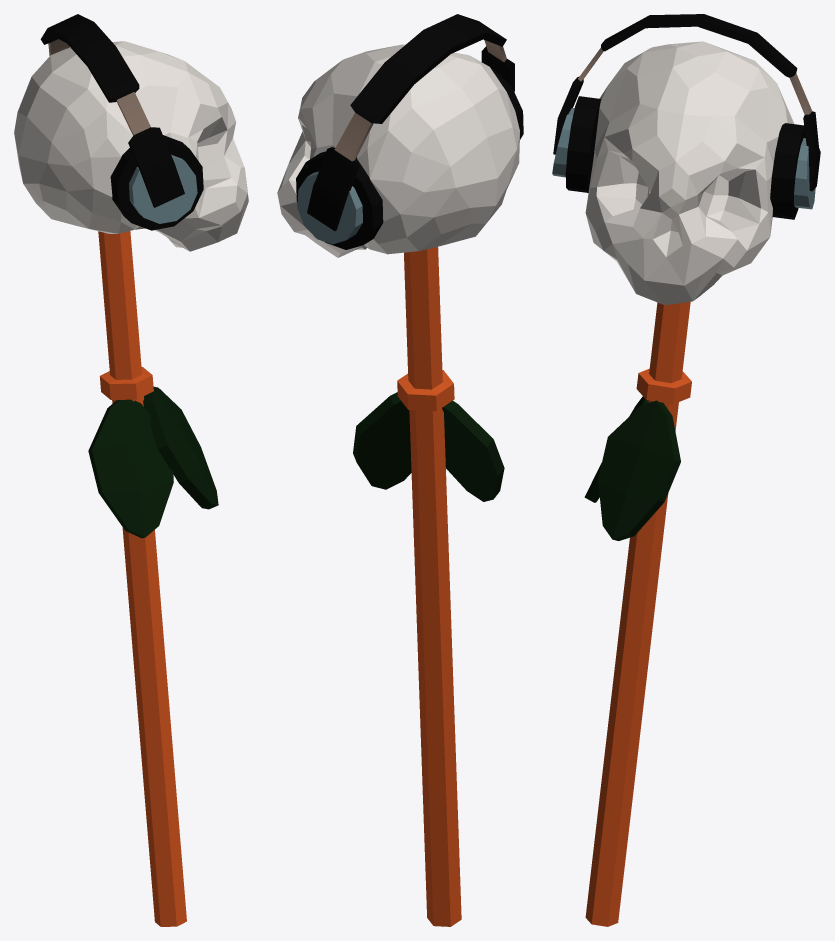
The model's file is SkullDJ.obj.
The picture shows the model from 3 angles, left to right: view 1: azimuth 30°, elevation 25°; view 2: azimuth 150°, elevation 25°; view 3: azimuth 270°, elevation 25°; orthographic projection. The views are drawn at different scales.
Visible parts, largest first — view 1: Stick; view 2: Stick; view 3: Stick.
Part boxes in pixels (x1,y1,x2,y2): Stick: [14, 14, 248, 926]; Stick: [277, 14, 523, 926]; Stick: [552, 14, 820, 926].
Bounding box in the file's own units: 1.04 × 4.32 × 1.18.
